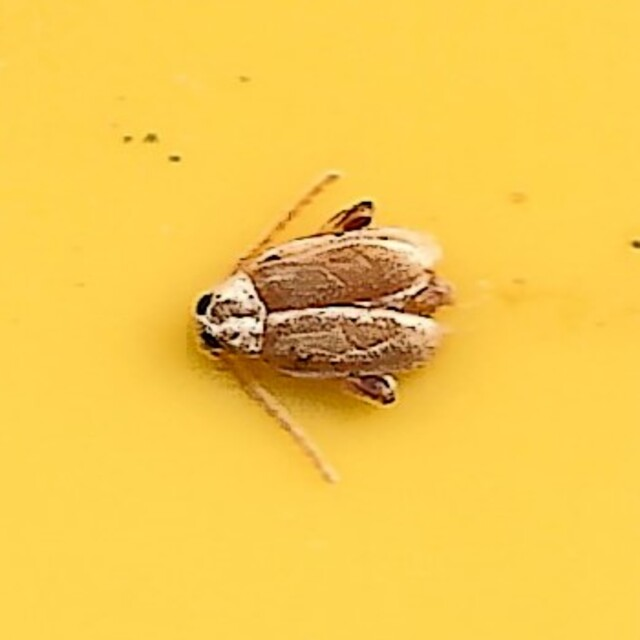Coleoptera: (183, 167, 457, 473)
